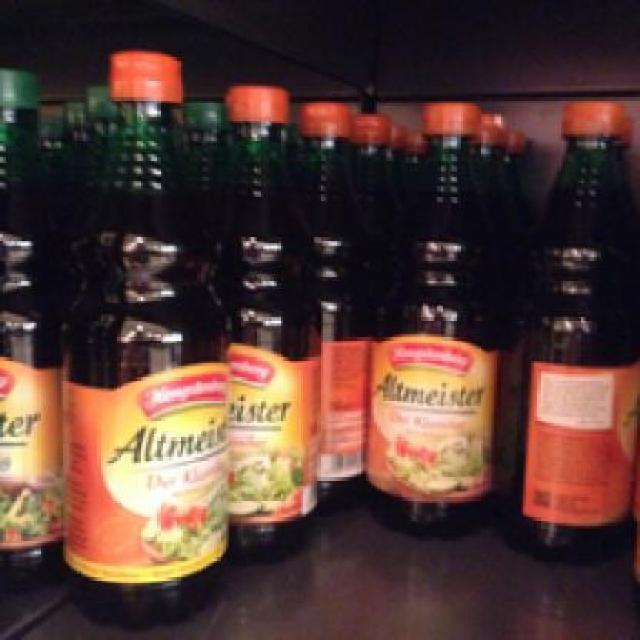Vinegar: (59, 46, 232, 620), (514, 103, 637, 560), (210, 82, 324, 558), (368, 100, 494, 529)
